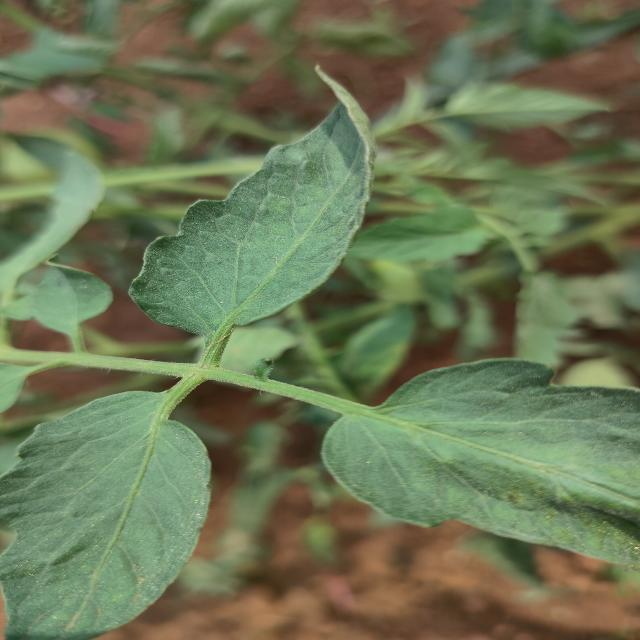tomato_healthy: (312, 350, 640, 585), (128, 70, 373, 366), (0, 394, 220, 636)
